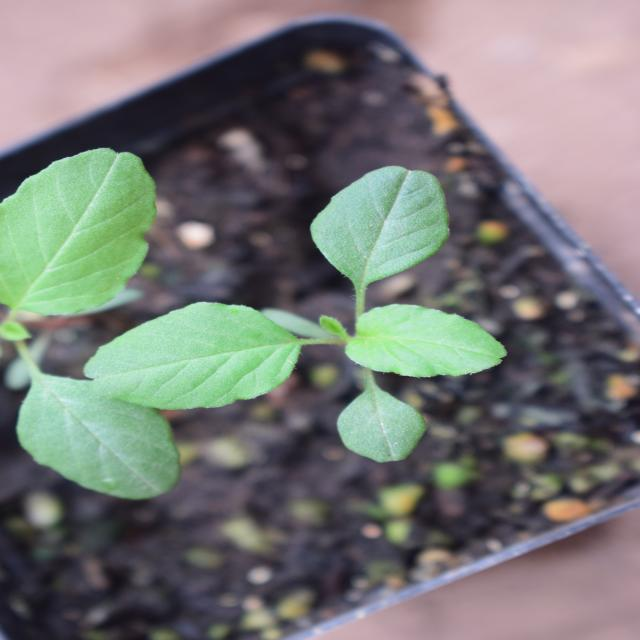pigweed: (180, 121, 481, 520)
